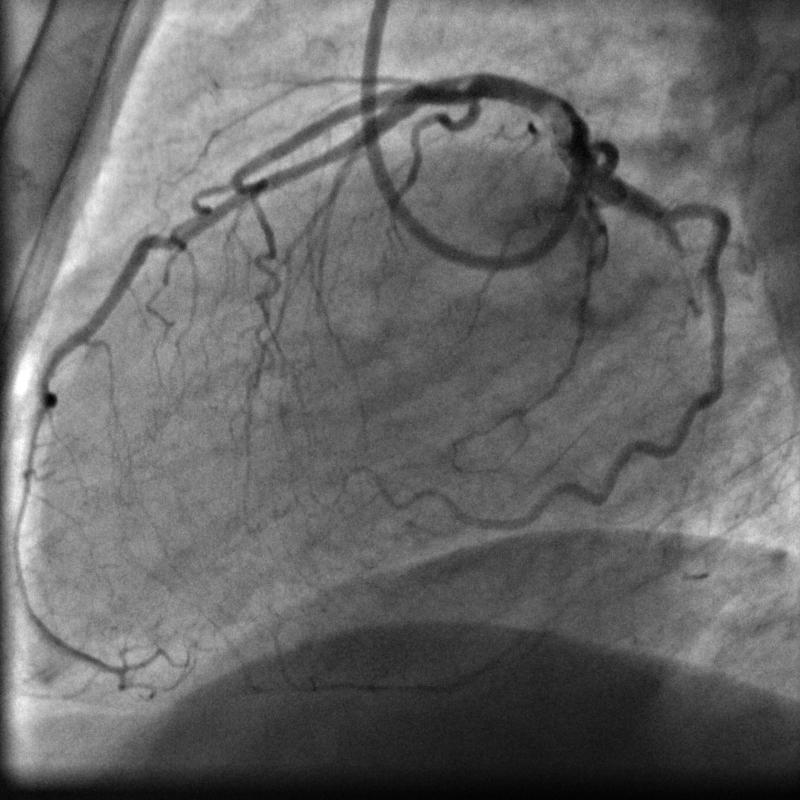Stenosis: (447, 67, 487, 117)
